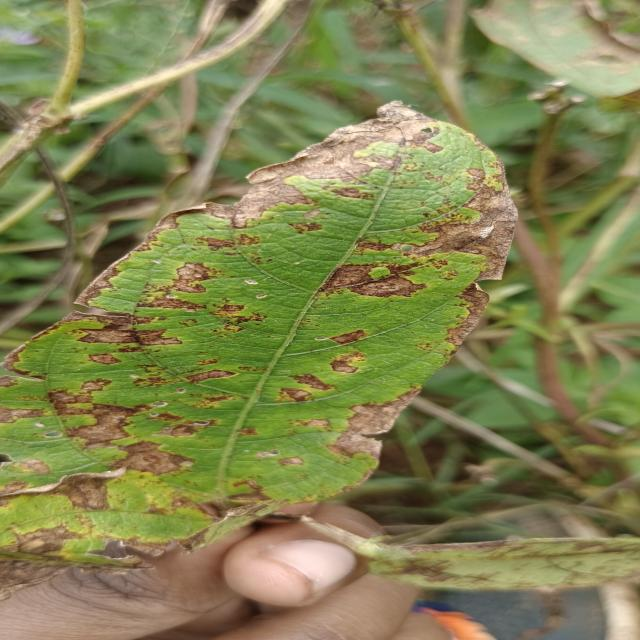Black gram_leaf spot: (0, 93, 537, 570)
